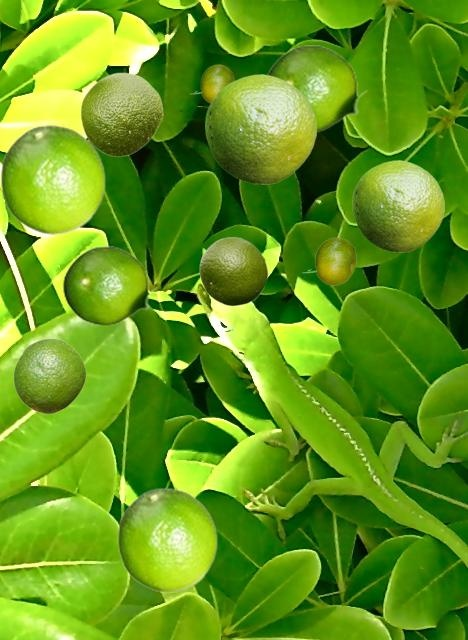calamansi: (205, 74, 315, 183), (0, 124, 105, 233), (117, 487, 217, 591), (264, 45, 368, 132), (352, 160, 443, 251), (62, 246, 158, 325), (80, 72, 162, 156), (13, 338, 85, 413), (199, 236, 267, 305), (301, 237, 355, 284), (189, 64, 233, 103)
